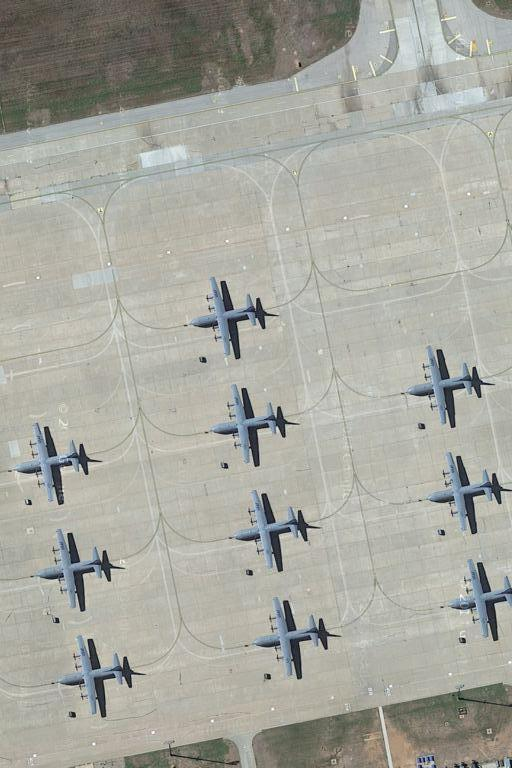C-130: (423, 445, 505, 535), (233, 487, 310, 576), (14, 419, 91, 508), (410, 342, 484, 433), (254, 590, 328, 680), (189, 279, 268, 361), (214, 379, 287, 466), (37, 532, 114, 613), (58, 631, 131, 715), (449, 558, 510, 642)
